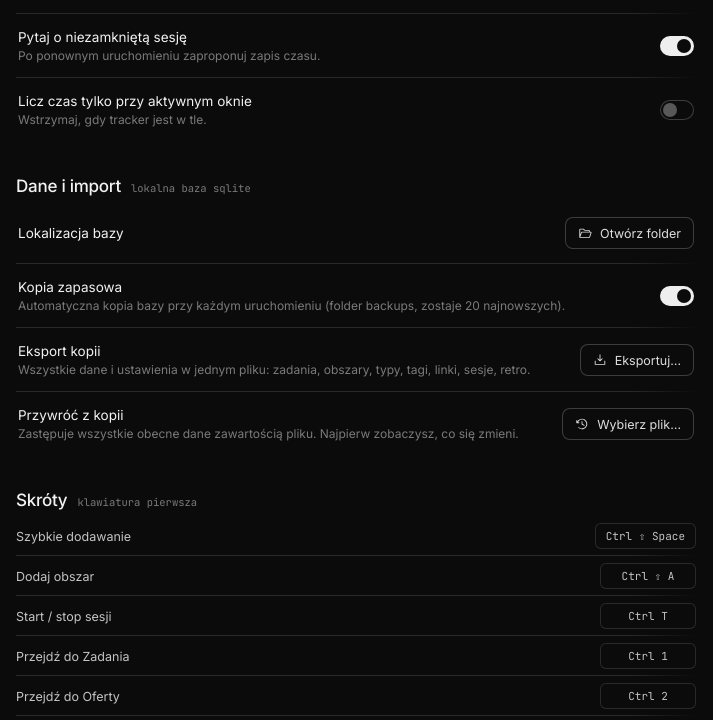
Test: Ustawienia — kopia zapasowa › Eksportuj… woła api.backup.export z polskim tekstem okna; sukces pokazuje „Ostatni eksport”
The width and height of the screenshot is (713, 720).
(page scrolled)
Click the button "Eksportuj…": click(637, 360) x1=580 y1=344 x2=694 y2=376
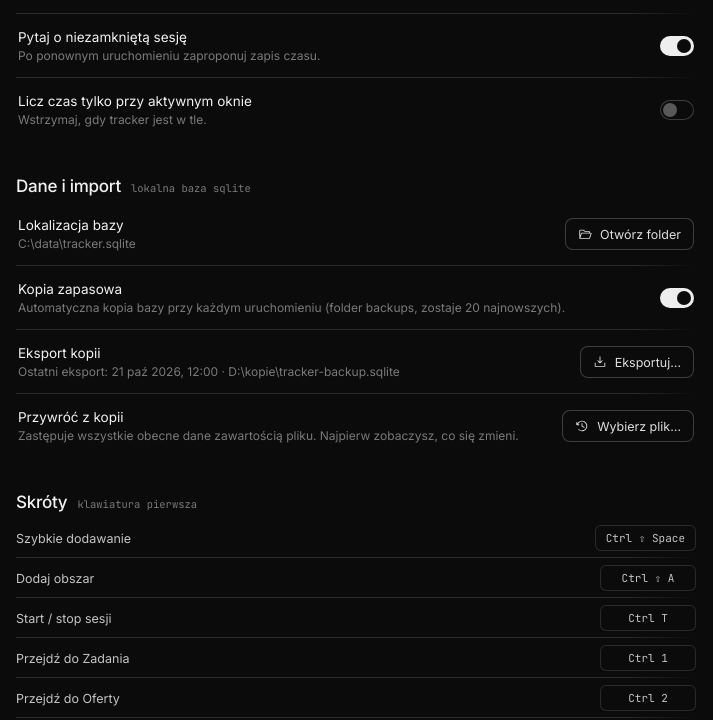
expect the text "Ostatni eksport: 21 paź 2026, 12:00 · D:\\kopie\\tracker-backu" is shown: met, box x1=18 y1=364 x2=400 y2=379
